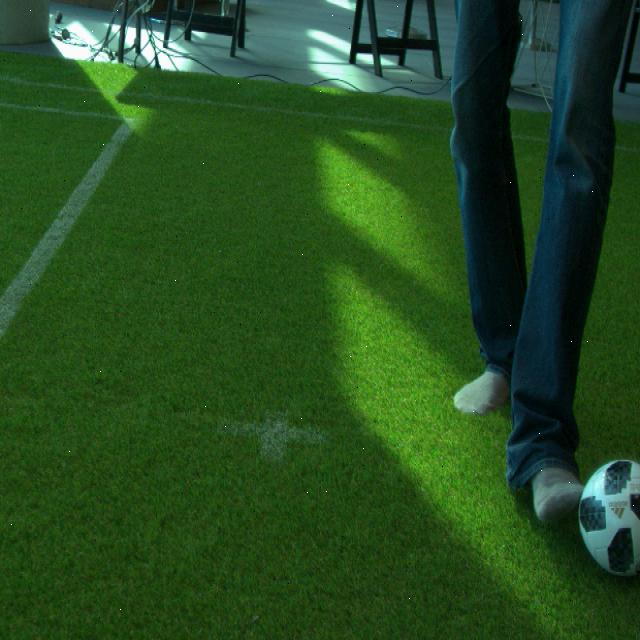ball: (576, 457, 640, 575)
